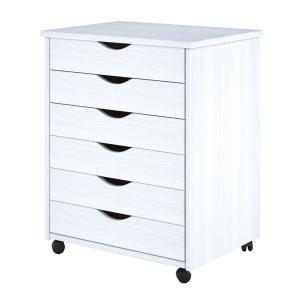cabinet_door: (52, 179, 185, 216), (51, 43, 185, 79), (52, 211, 185, 247), (52, 111, 185, 146), (52, 76, 185, 111), (52, 143, 184, 178)
handle: (98, 73, 133, 88), (99, 209, 133, 224), (98, 40, 133, 54), (97, 142, 132, 156), (99, 176, 133, 190), (100, 108, 133, 122)
